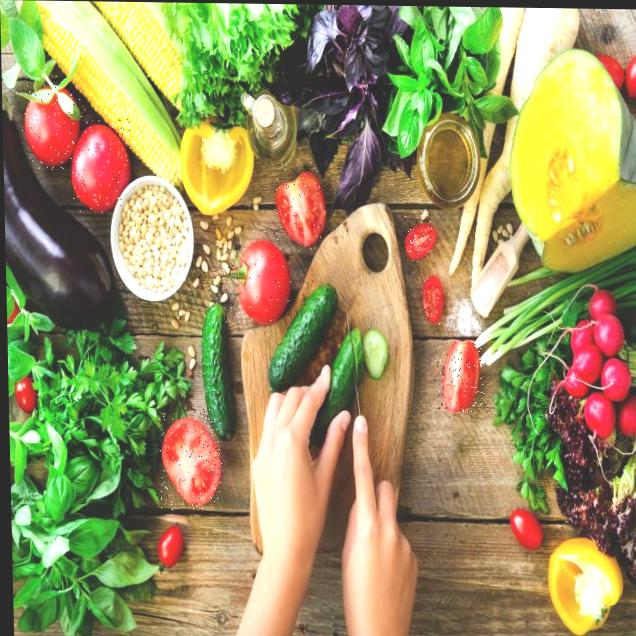Tomato: (159, 408, 225, 511), (21, 74, 87, 170), (216, 245, 294, 325), (69, 118, 132, 213), (270, 161, 323, 255), (434, 340, 485, 413), (403, 214, 435, 262), (421, 277, 445, 325)
